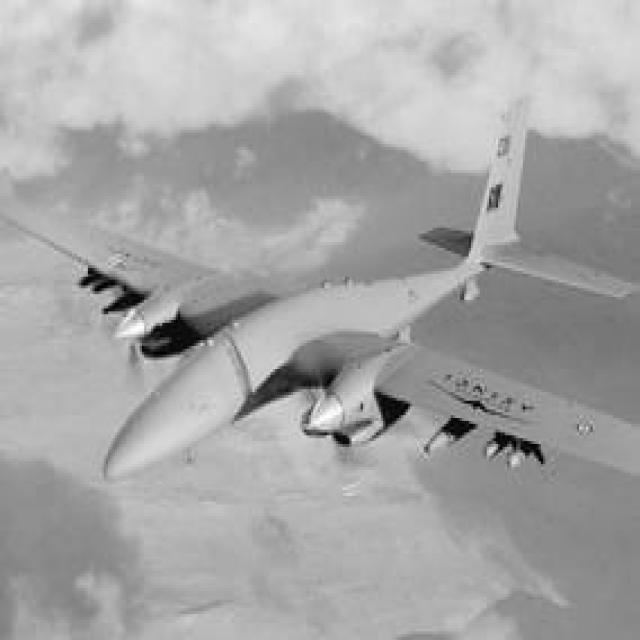iha: (0, 40, 638, 476)
